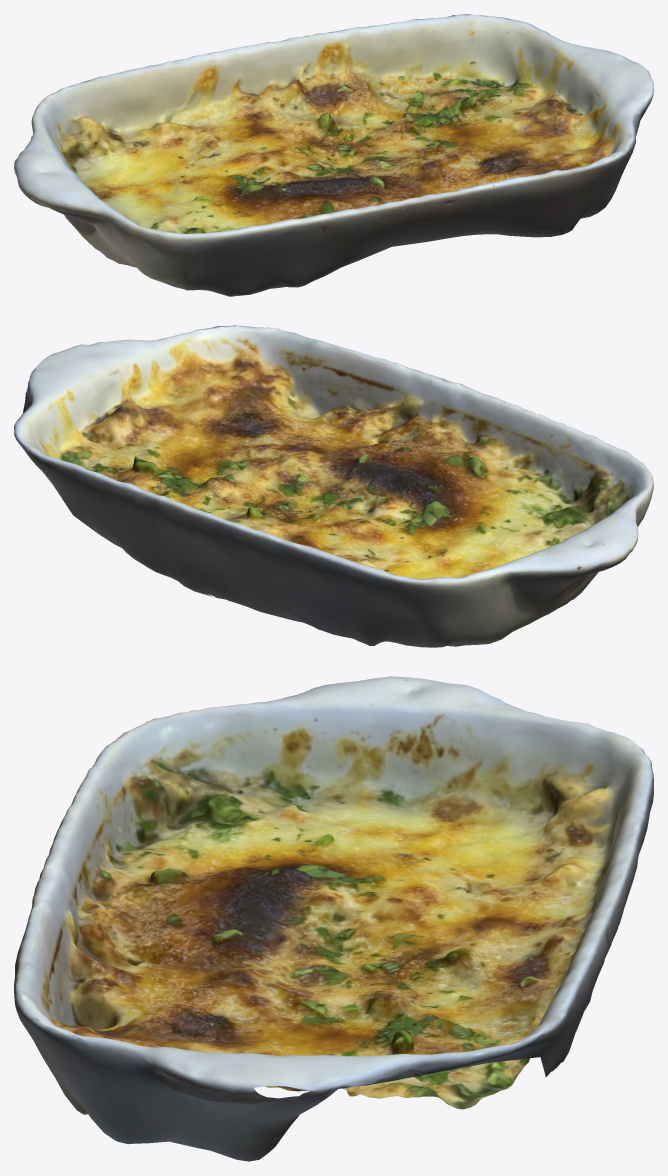
Rendered from gratin-fruits-de-mer.ar.glb.
The picture shows the model from 3 angles, top to bottom: view 1: azimuth 30°, elevation 25°; view 2: azimuth 150°, elevation 25°; view 3: azimuth 270°, elevation 25°; orthographic projection. The views are drawn at different scales.
Visible parts, largest first — view 1: /ObjectCapture/Geometry/Mesh; view 2: /ObjectCapture/Geometry/Mesh; view 3: /ObjectCapture/Geometry/Mesh.
Boxes of the visible parts, <box> form: /ObjectCapture/Geometry/Mesh: <box>14,14,653,296</box>; /ObjectCapture/Geometry/Mesh: <box>14,325,653,647</box>; /ObjectCapture/Geometry/Mesh: <box>14,676,653,1161</box>.
Bounding box in the file's own units: 0.2292 × 0.0369 × 0.1468.
Materials: 1 (1 with a texture image).
